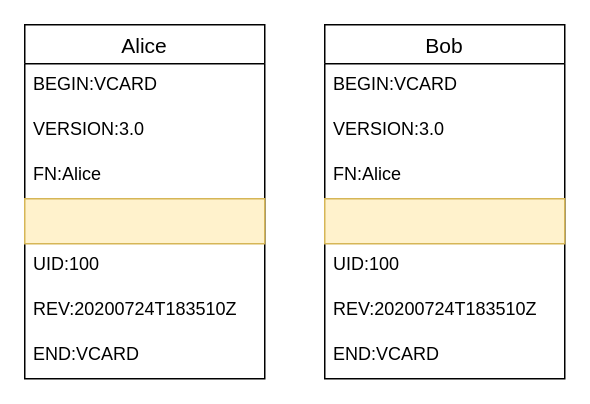
Image size: 590x404. Some labels were removed from this diagram. Each missing label, with the centre of its shape:
CATEGORIES:Staff,IT: (x=444, y=220)
CATEGORIES:Staff,R&D: (x=144, y=220)
